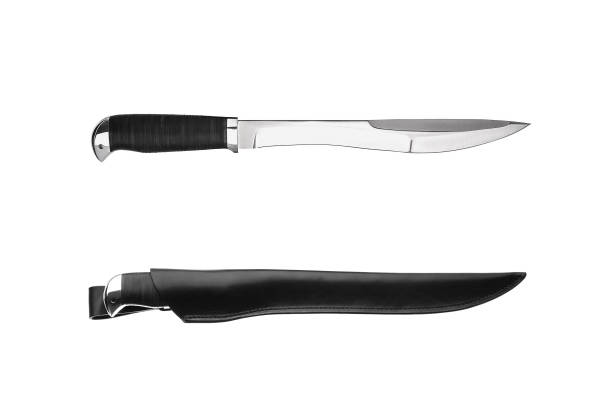knife: (100, 267, 528, 326), (91, 111, 530, 165)
